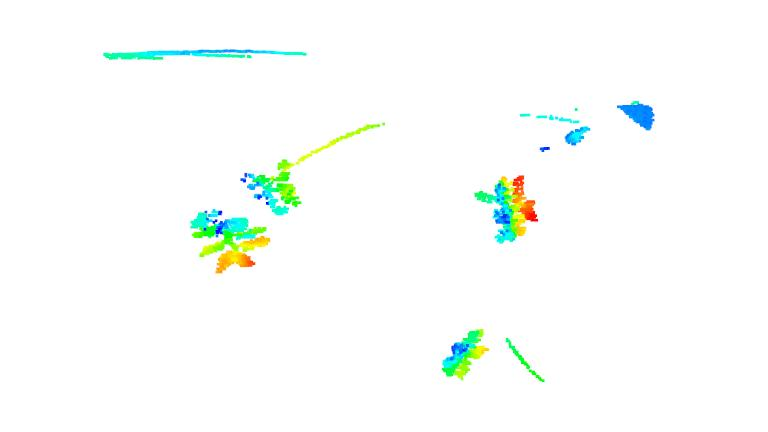chickpea: (470, 164, 546, 248), (189, 204, 276, 276), (238, 155, 304, 216), (439, 328, 492, 379)
